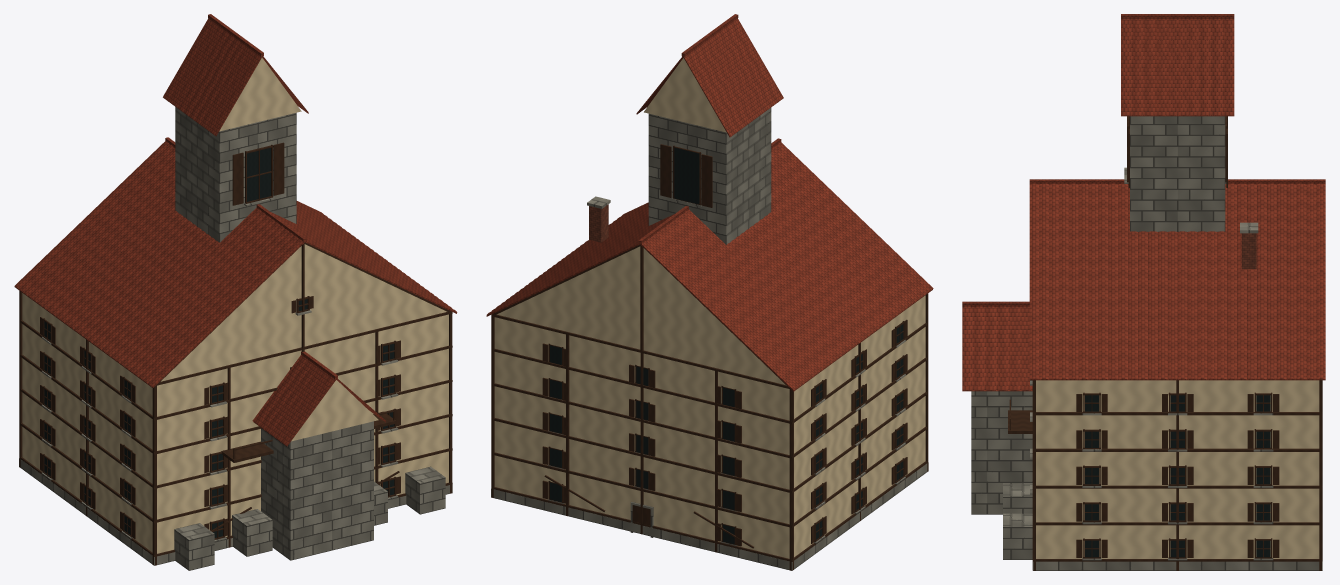
The model's file is SG_CivicHall_LOD0.fbx.
The picture shows the model from 3 angles, left to right: view 1: azimuth 30°, elevation 25°; view 2: azimuth 150°, elevation 25°; view 3: azimuth 270°, elevation 25°; orthographic projection. The views are drawn at different scales.
Parts seen in each view (by area): view 1: SG_CivicHall_Detail0; view 2: SG_CivicHall_Detail0; view 3: SG_CivicHall_Detail0.
Boxes of the visible parts, box(x1,y1,x2,y2) form: SG_CivicHall_Detail0: box(14, 14, 457, 570); SG_CivicHall_Detail0: box(486, 14, 933, 570); SG_CivicHall_Detail0: box(962, 14, 1325, 570).
Bounding box in the file's own units: 47.64 × 66.61 × 45.8.
